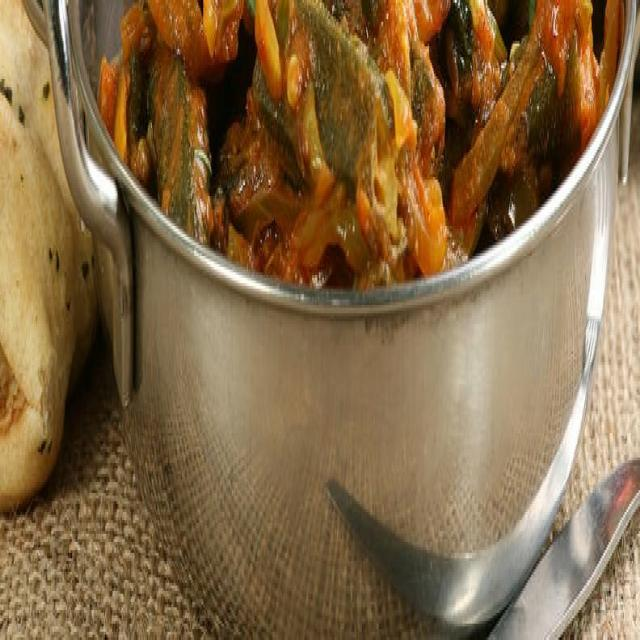BhindiMasala: (98, 0, 625, 289)
